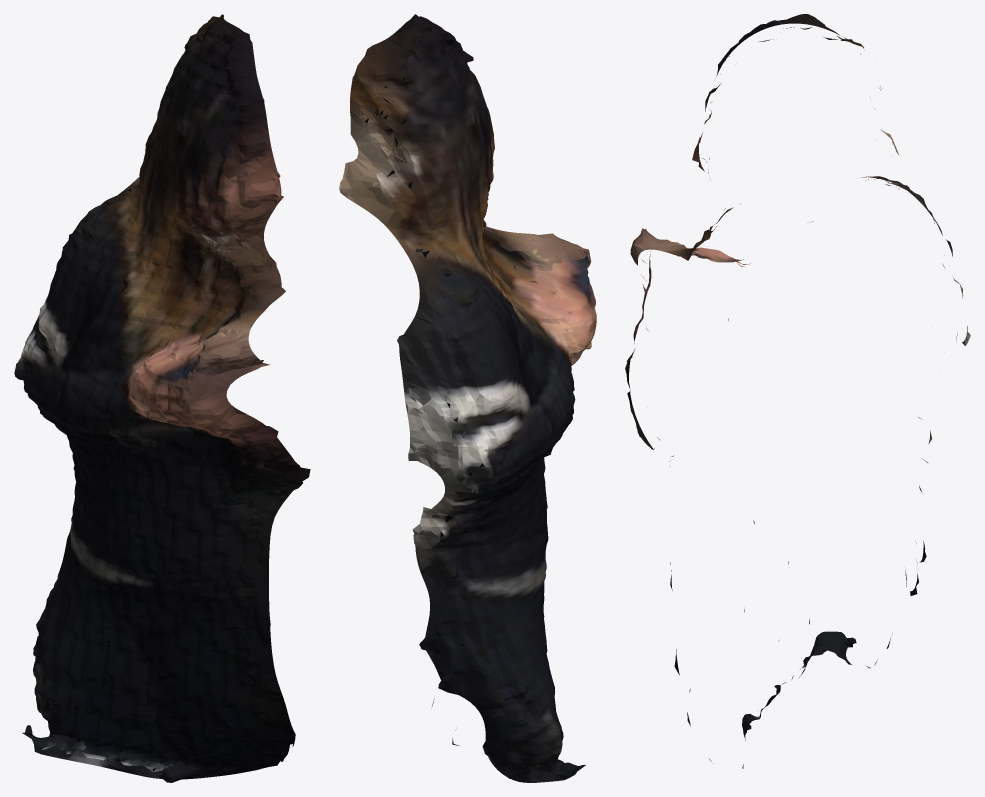
The picture shows the model from 3 angles, left to right: view 1: azimuth 30°, elevation 25°; view 2: azimuth 150°, elevation 25°; view 3: azimuth 270°, elevation 25°; orthographic projection. The views are drawn at different scales.
Size of the model in its own units: 0.3116 by 1.06 by 0.4385.
1 material, 1 textured.
